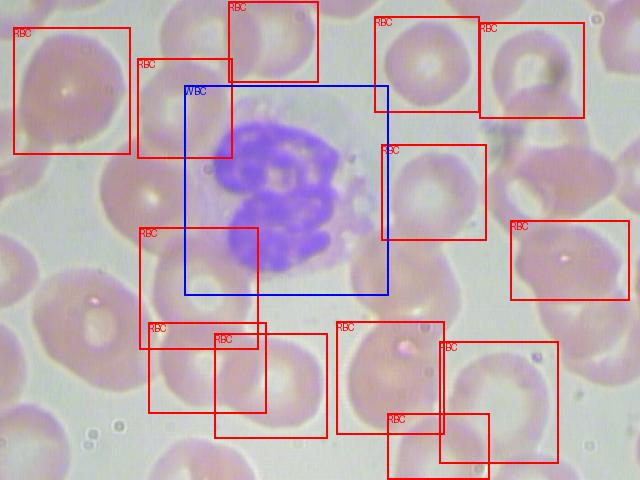RBC: (13, 27, 130, 154), (139, 227, 258, 349), (439, 341, 558, 463), (336, 321, 444, 434), (214, 333, 327, 438), (148, 322, 266, 413), (374, 16, 479, 112), (479, 22, 584, 118), (381, 144, 486, 240), (510, 220, 629, 300), (137, 58, 232, 158), (228, 1, 318, 82), (387, 413, 489, 479)
WBC: (184, 85, 388, 295)
